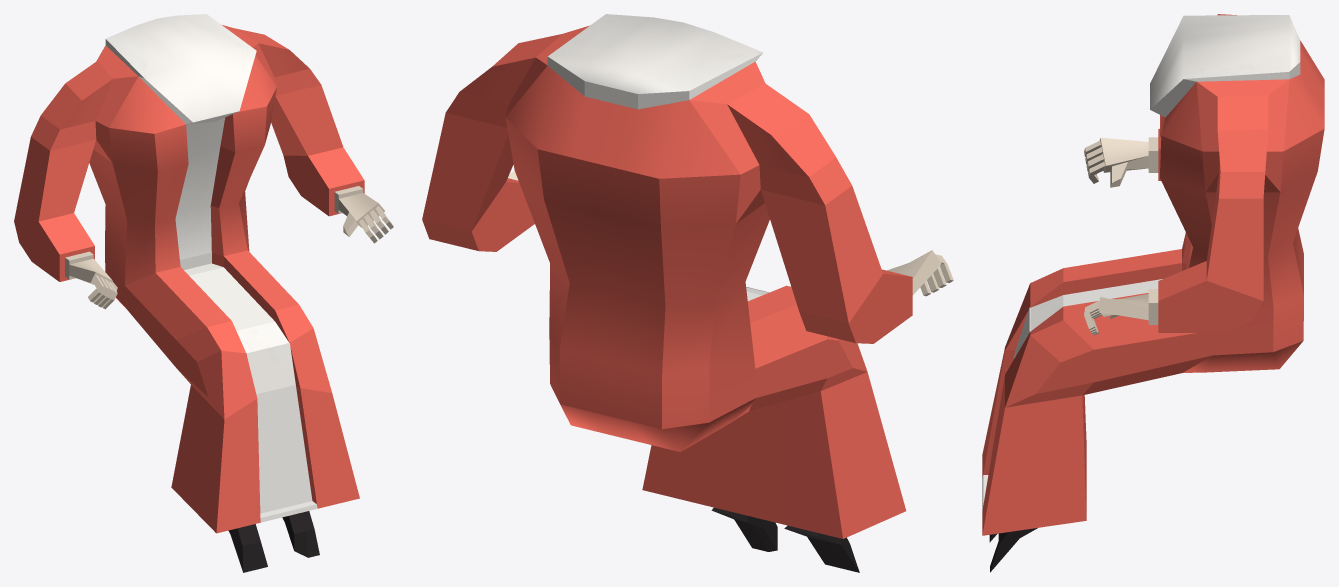
The model's file is kingBody.fbx.
3 views of the same model, side by side, from view 1: azimuth 30°, elevation 25°; view 2: azimuth 150°, elevation 25°; view 3: azimuth 270°, elevation 25° (orthographic). The views are drawn at different scales.
Parts seen in each view (by area): view 1: broken_king_body:pCube3; view 2: broken_king_body:pCube3; view 3: broken_king_body:pCube3.
Part boxes in pixels (box(x1,y1,x2,y2)): broken_king_body:pCube3: box(14, 14, 393, 572); broken_king_body:pCube3: box(422, 14, 953, 572); broken_king_body:pCube3: box(982, 14, 1324, 572).
Size of the model in its own units: 14.08 by 19.83 by 11.86.
1 material, 1 textured.
